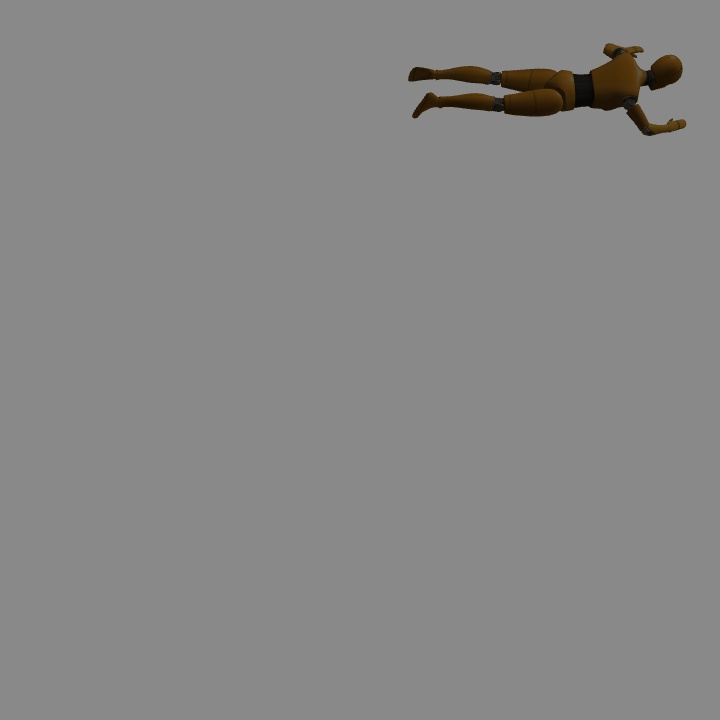victim: (411, 42, 690, 133)
